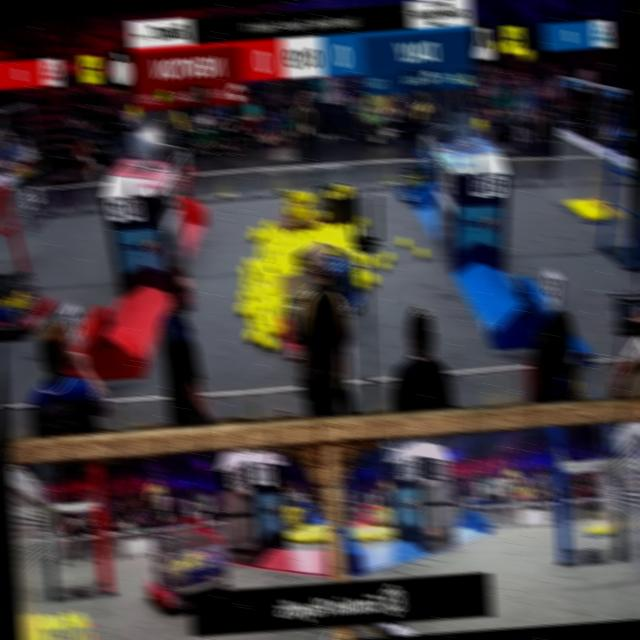ball_airborne: (473, 118, 485, 130), (128, 106, 138, 118)
ball_ground: (244, 329, 258, 344), (363, 272, 376, 284), (248, 234, 258, 242)
goal: (105, 131, 167, 174)
robot_blue: (322, 243, 362, 315), (311, 176, 361, 229), (392, 158, 432, 202), (292, 250, 310, 275)
robot_red: (130, 520, 232, 618), (272, 259, 340, 367), (0, 270, 48, 336), (277, 184, 318, 233)
